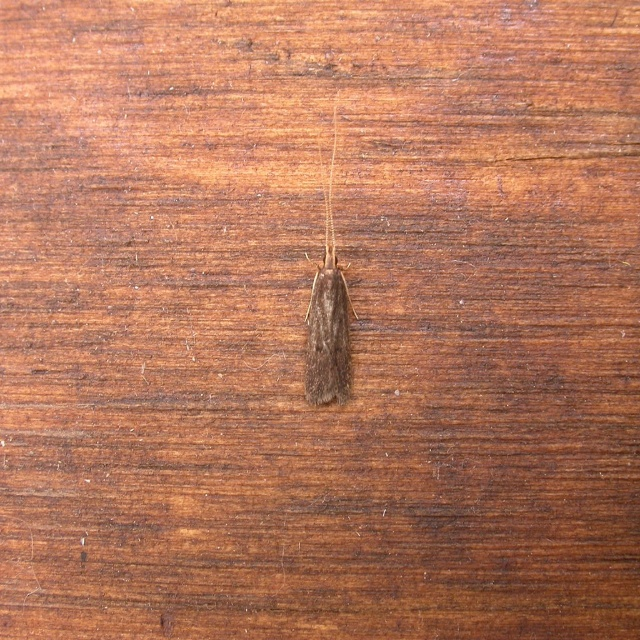Moths and butterflies: (303, 108, 360, 410)
